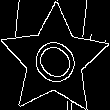O_SE: (22, 27, 87, 93)
